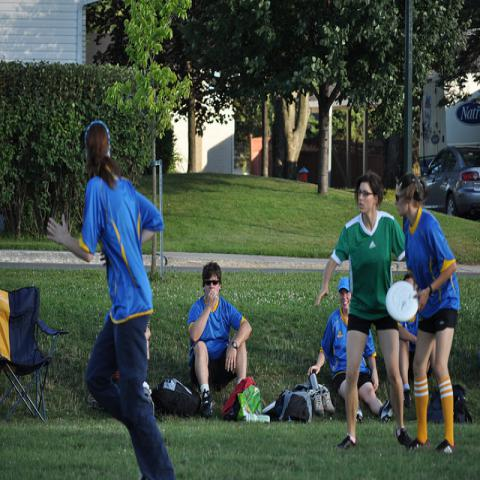car: (422, 146, 480, 221)
truck: (419, 72, 479, 173)
